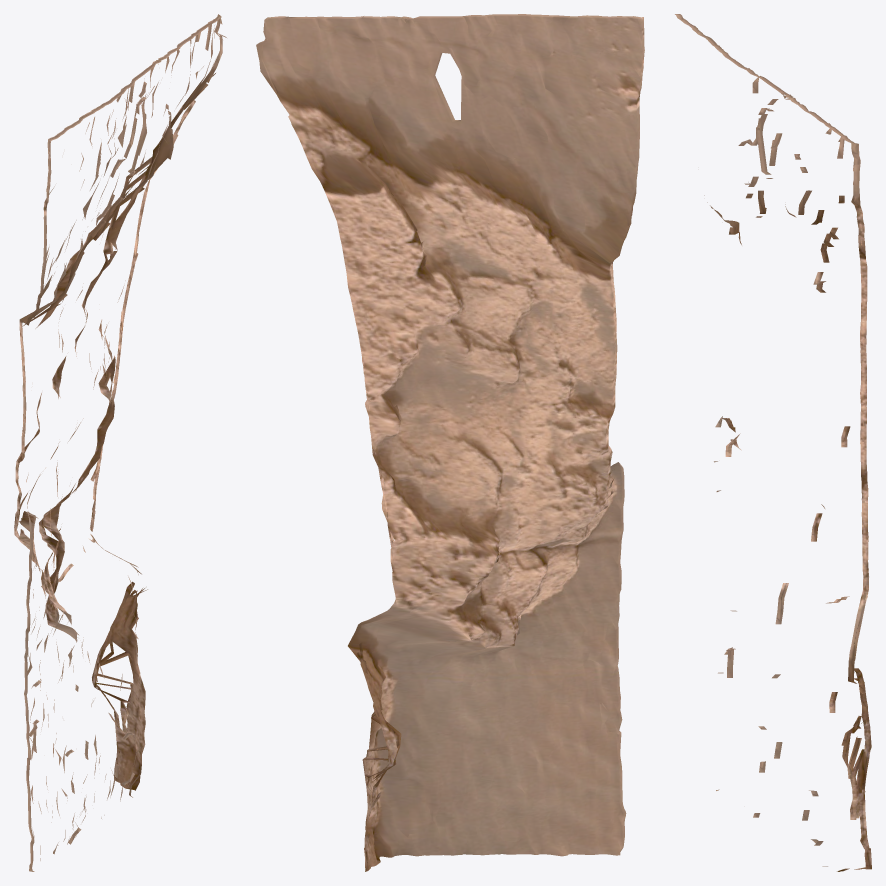
3 renders of one model, left to right at view 1: azimuth 30°, elevation 25°; view 2: azimuth 150°, elevation 25°; view 3: azimuth 270°, elevation 25°, orthographic. The views are drawn at different scales.
Bounding box in the file's own units: 0.5381 × 1.46 × 0.3386.
1 material, 1 textured.
